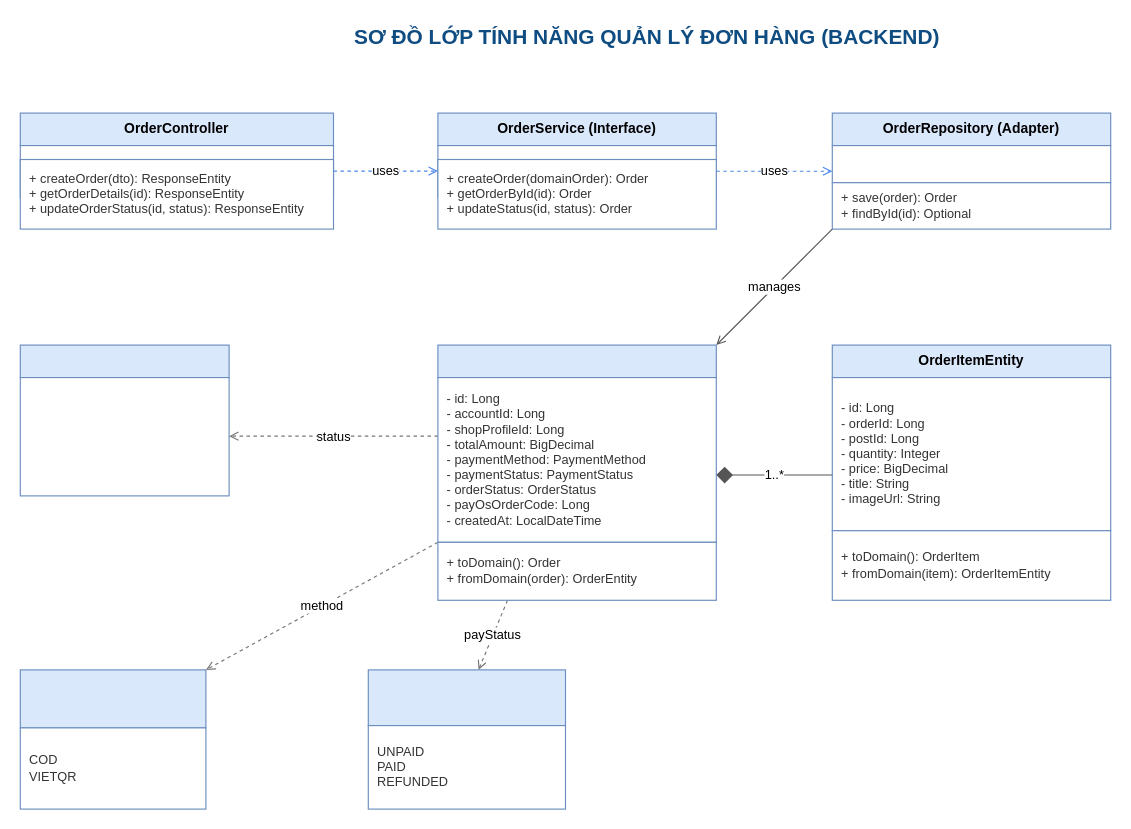
Some shapes in this 1131 by 829 pixel diagram are drawn without their labels. Here are the shapes that lost their labels. From the top down, the centre of each, then its label:
At point 971,163: "- jpaRepo: JpaOrderRepository".
At point 124,361: "<<enum>> OrderStatus".
At point 576,361: "OrderEntity".
At point 124,436: "PENDING ACCEPTED PREPARING DELIVERING DELIVERED CANCELLED".
At point 112,698: "<<enum>> PaymentMethod".
At point 466,697: "<<enum>> PaymentStatus".
